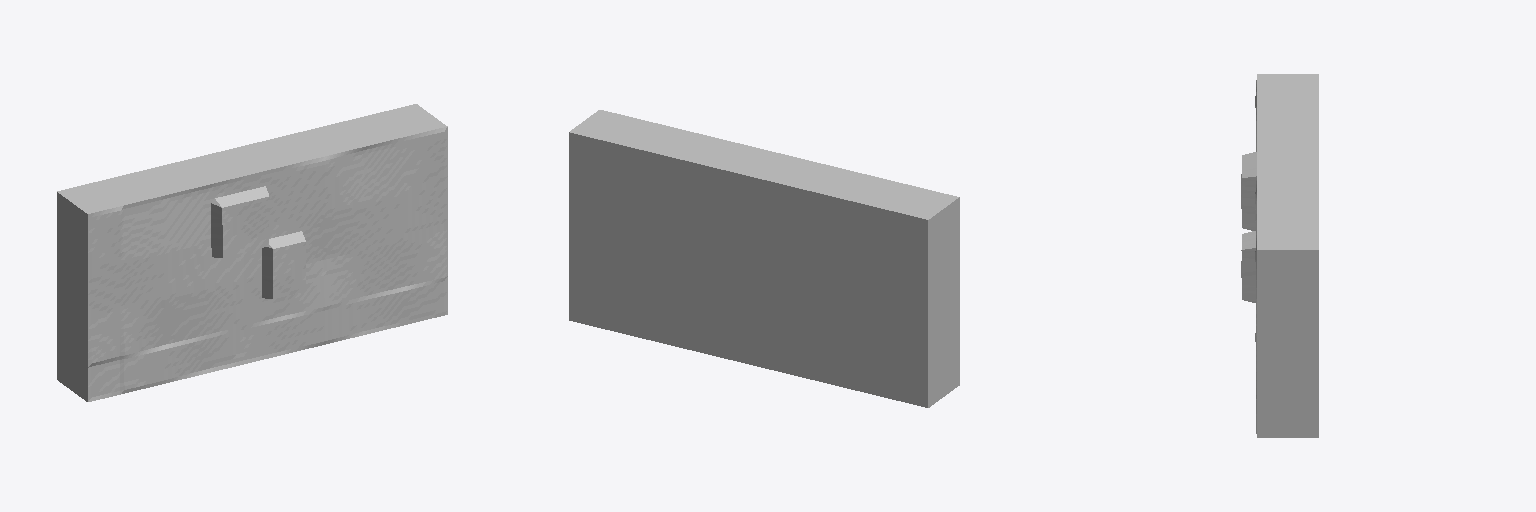
File: rectangular_prism_bumps_7_6.obj
3 views of the same model, side by side, from view 1: azimuth 30°, elevation 25°; view 2: azimuth 150°, elevation 25°; view 3: azimuth 270°, elevation 25° (orthographic).
Bounding box in the file's own units: 10 × 5 × 1.88.